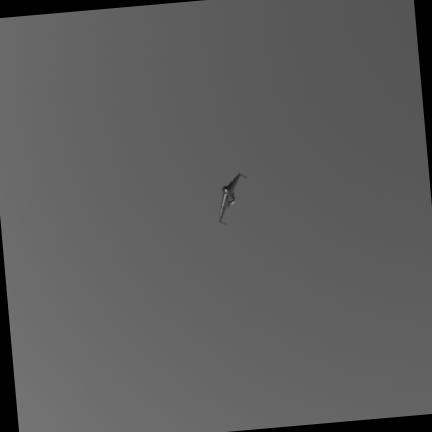Shahed: (219, 174, 245, 223)
